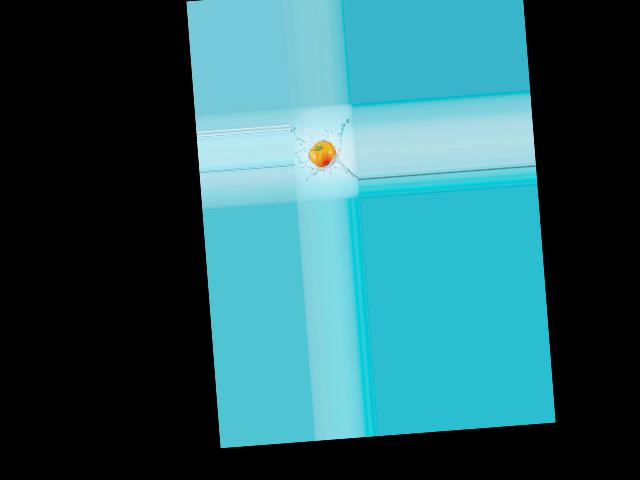tomato: (307, 140, 337, 168)
